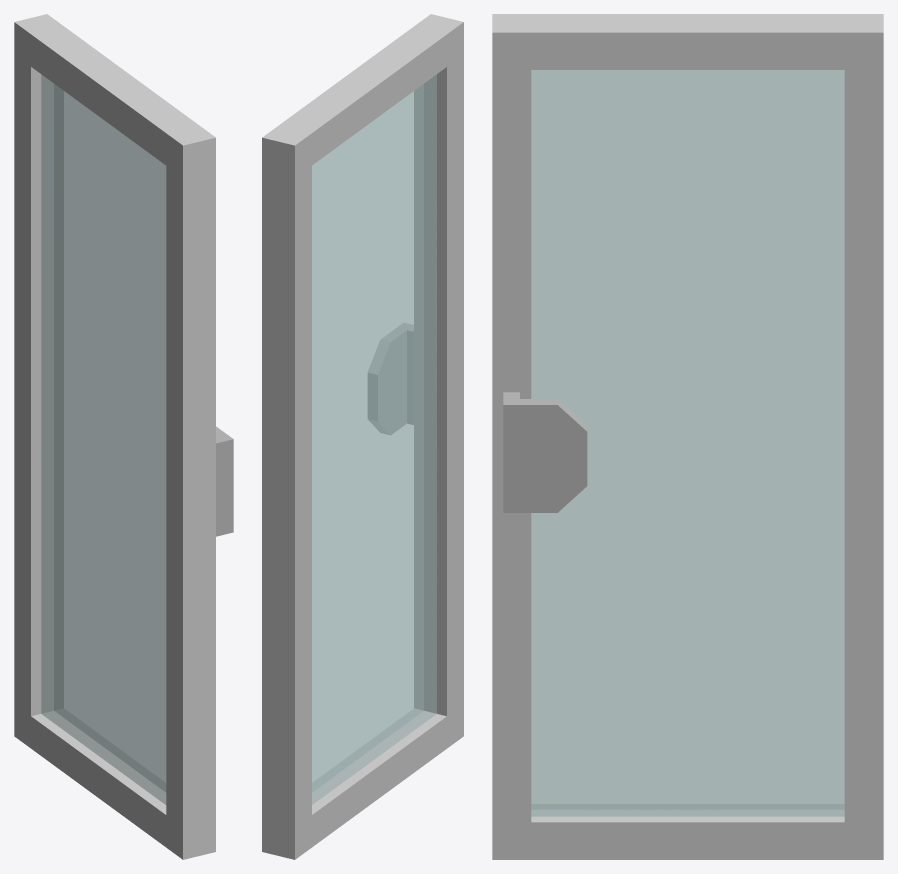
File: door2.fbx
3 views of the same model, side by side, from view 1: azimuth 30°, elevation 25°; view 2: azimuth 150°, elevation 25°; view 3: azimuth 270°, elevation 25° (orthographic). The views are drawn at different scales.
Parts seen in each view (by area): view 1: pCube25; view 2: pCube25; view 3: pCube25.
Part boxes in pixels (left/top/right/bottom): pCube25: left=14, top=14, right=233, bottom=859; pCube25: left=262, top=14, right=463, bottom=859; pCube25: left=492, top=14, right=883, bottom=859.
Size of the model in its own units: 6.17 by 76.16 by 32.64.
